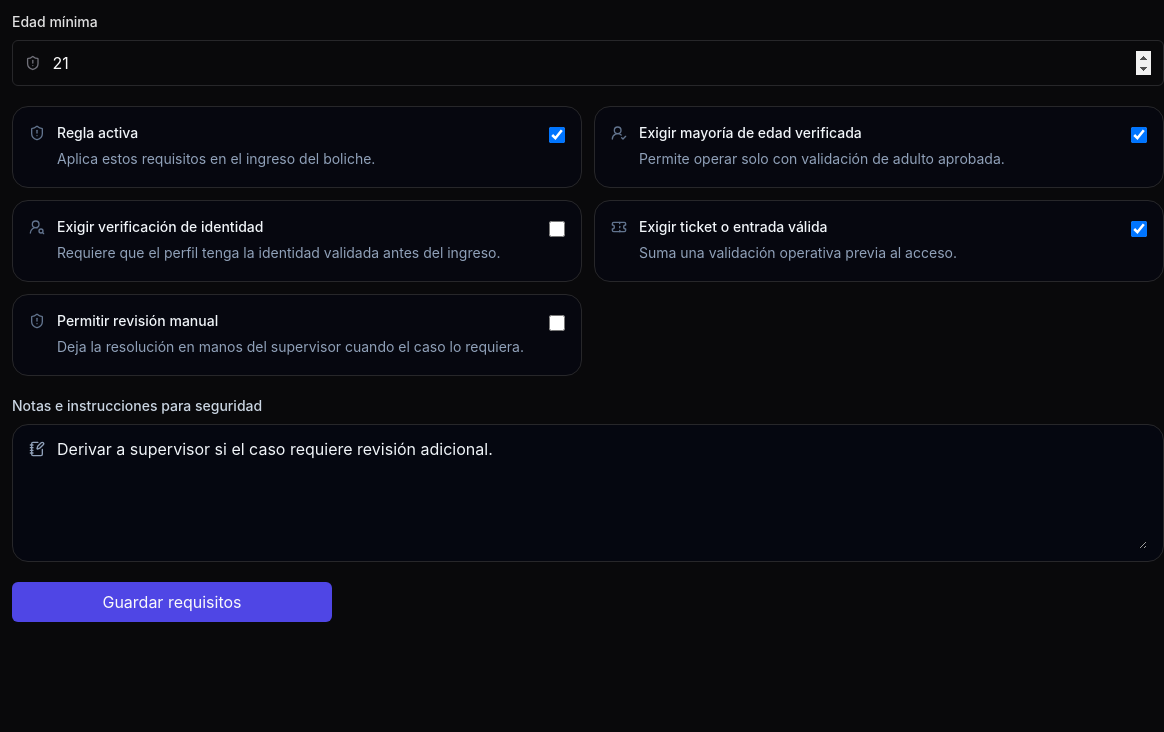
Test: VenueEntryRulesForm › rejects a non-integer minimum age before submit
The width and height of the screenshot is (1164, 732).
Replace the text in the number field with placeholder "18" with "18.5" at (602, 63), box x1=53 y1=51 x2=1151 y2=75
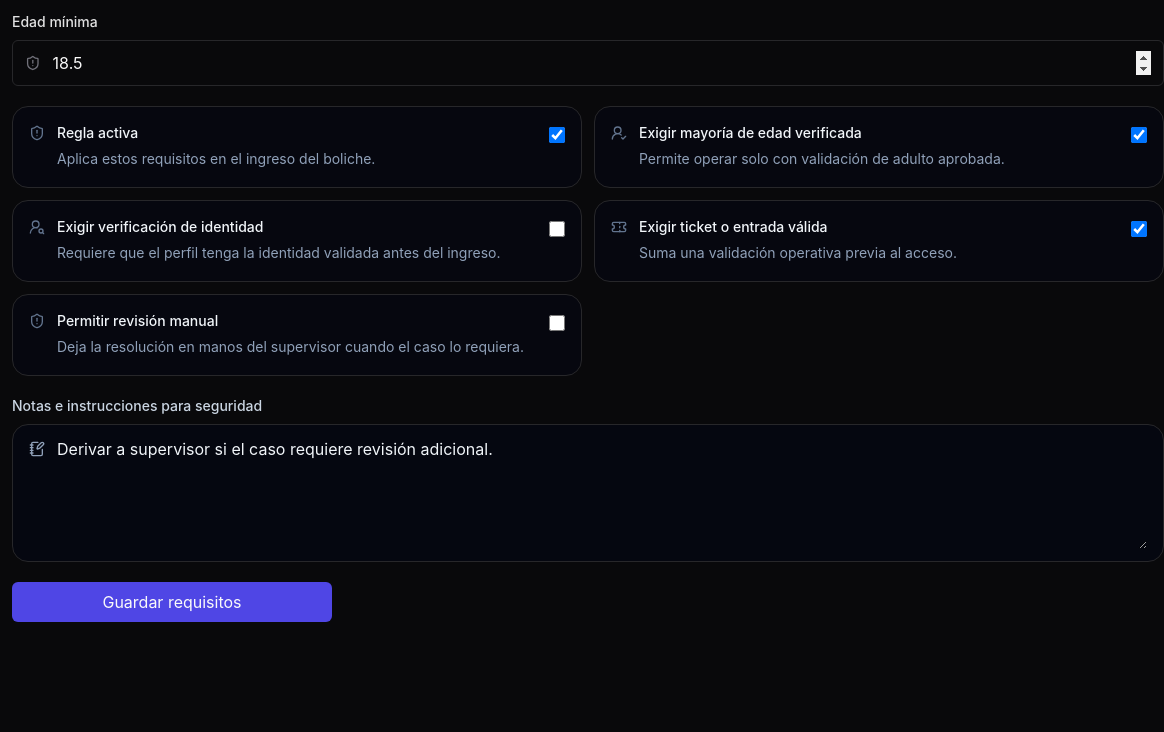
Click the button "Guardar requisitos".
click(172, 602)  # box x1=12 y1=582 x2=332 y2=622
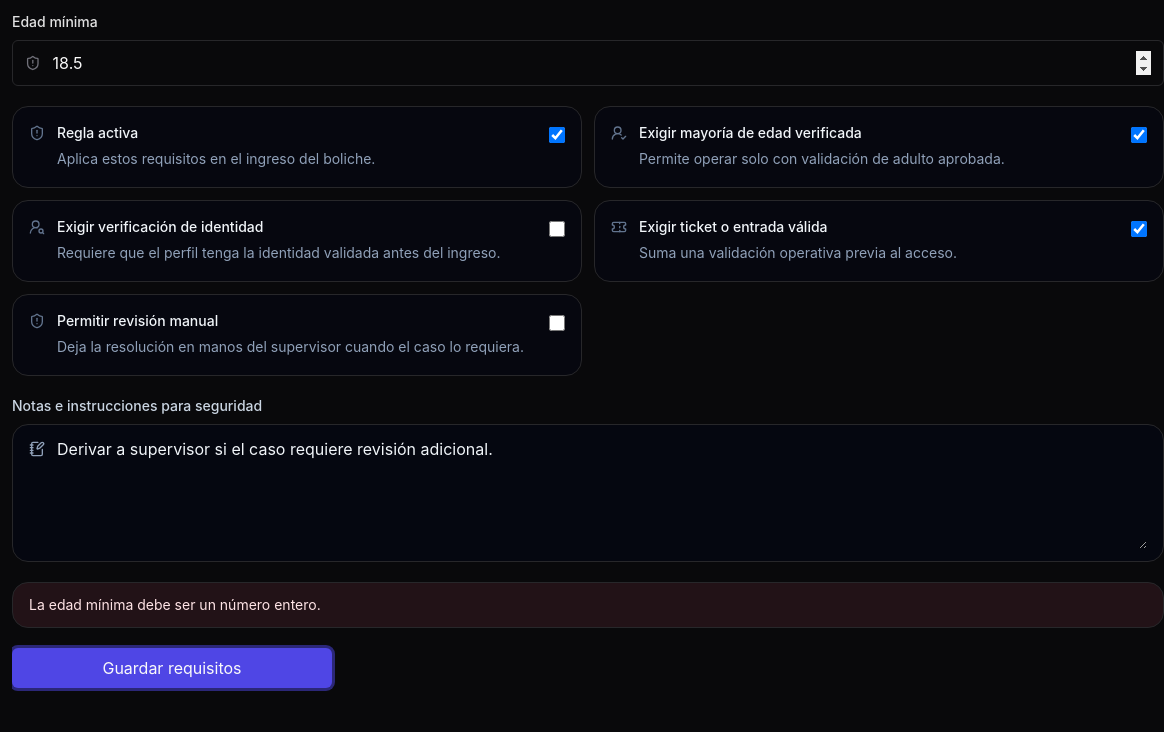
Now the text "La edad mínima debe ser un número entero." is shown, box x1=12 y1=582 x2=1163 y2=628
